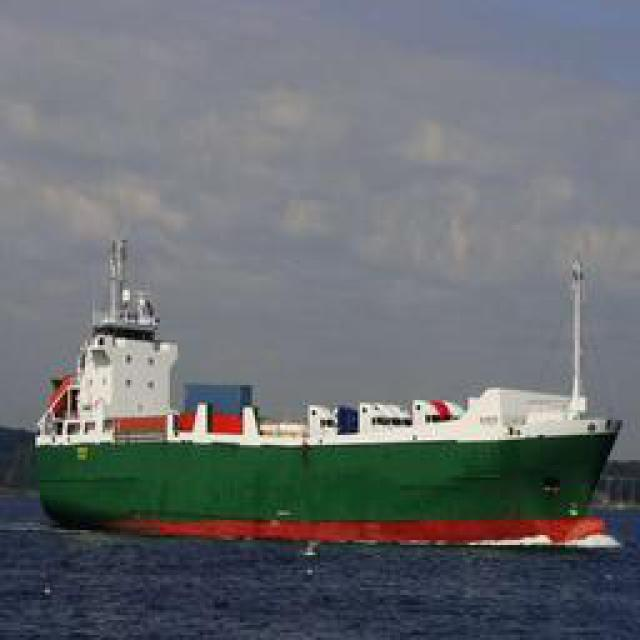Ship: (39, 235, 624, 550)
